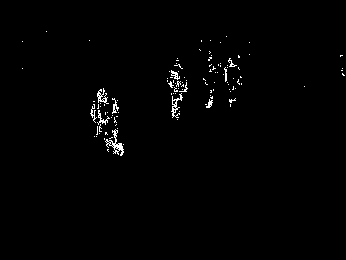person: (88, 88, 130, 156), (166, 56, 190, 121), (201, 50, 219, 109), (224, 55, 243, 108)
